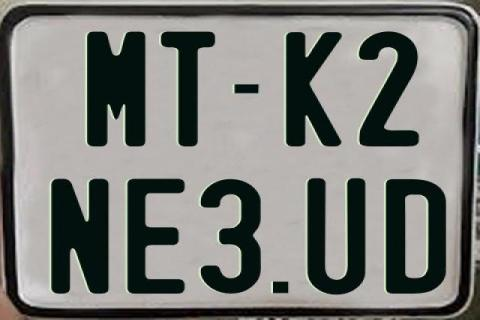0: (198, 179, 262, 297), (358, 29, 418, 145)
D: (386, 178, 447, 296)
E: (127, 178, 189, 294)
K: (284, 30, 344, 148)
M: (87, 31, 151, 150)
N: (48, 176, 106, 291)
T: (160, 31, 220, 146)
U: (306, 176, 367, 293)
